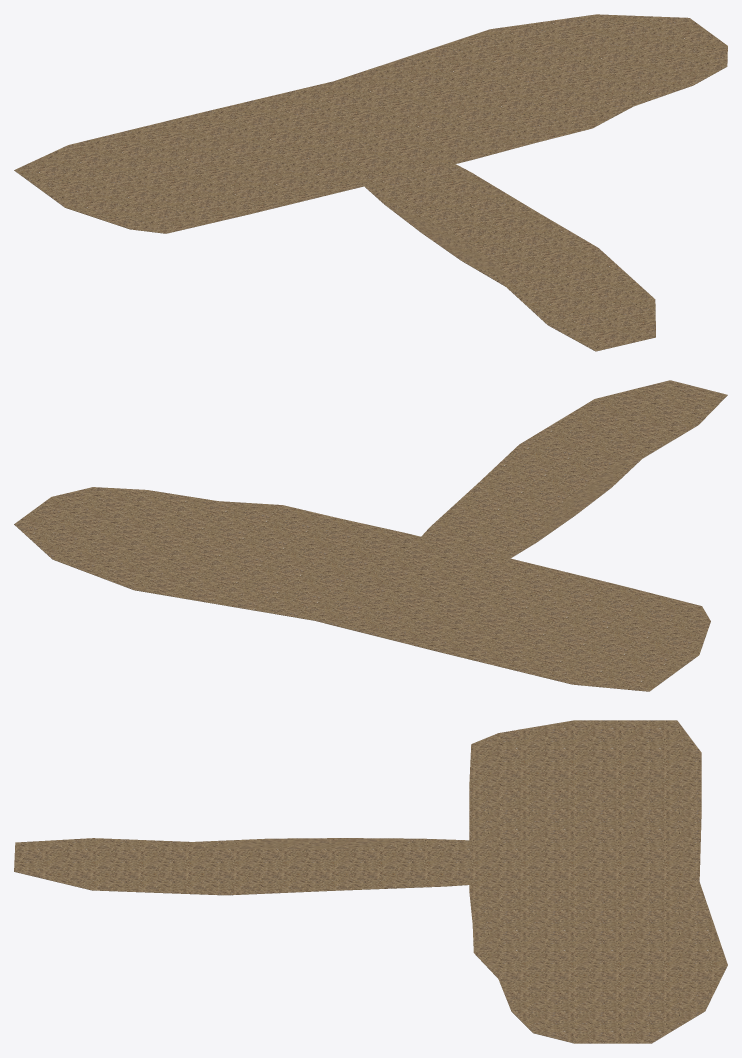
Rendered from Ground_Soil.fbx.
3 views of the same model, one above another, from view 1: azimuth 30°, elevation 25°; view 2: azimuth 150°, elevation 25°; view 3: azimuth 270°, elevation 25° (orthographic). The views are drawn at different scales.
Parts seen in each view (by area): view 1: Ground_Soil; view 2: Ground_Soil; view 3: Ground_Soil.
Part boxes in pixels (left/top/right/bottom): Ground_Soil: left=14, top=14, right=727, bottom=351; Ground_Soil: left=14, top=380, right=727, bottom=691; Ground_Soil: left=14, top=720, right=727, bottom=1043.
Bounding box in the file's own units: 50000 × 16.49 × 46660.
